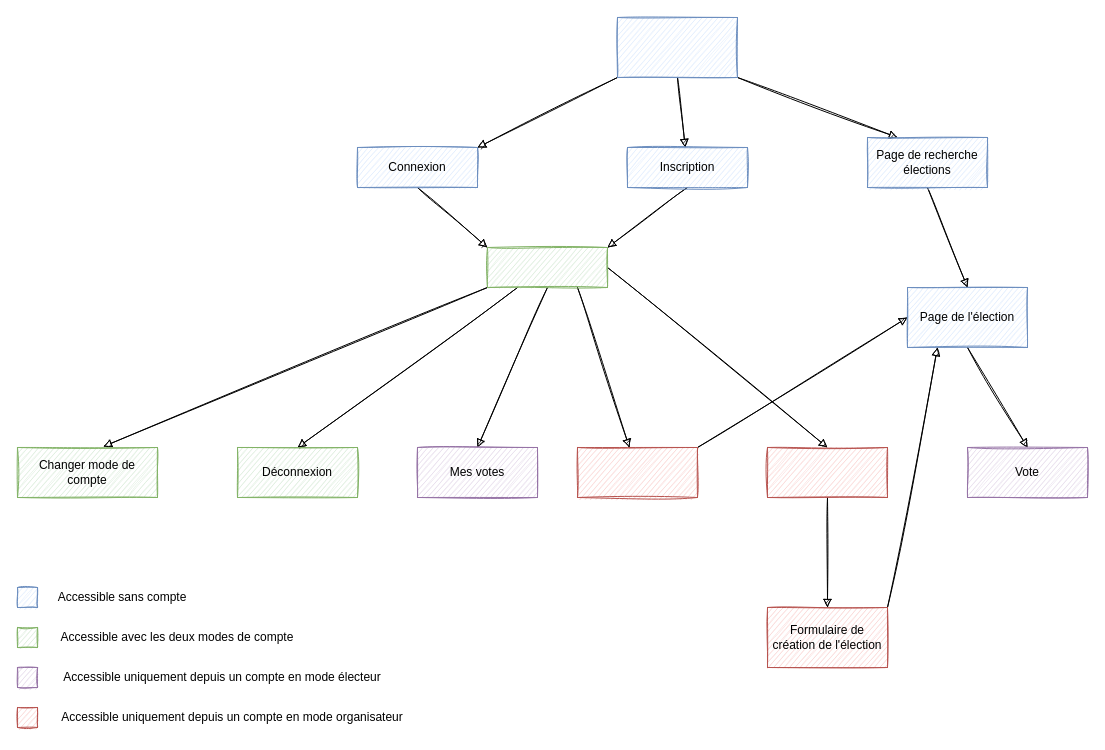
This 1105x750 diagram has some shape labels left out. The centre of each missing label's shape, as x and y in pixels:
Mes élections: the point at 637,472
Organiser une élection: the point at 827,472
Page compte: the point at 547,267
Page d'accueil: the point at 677,47
